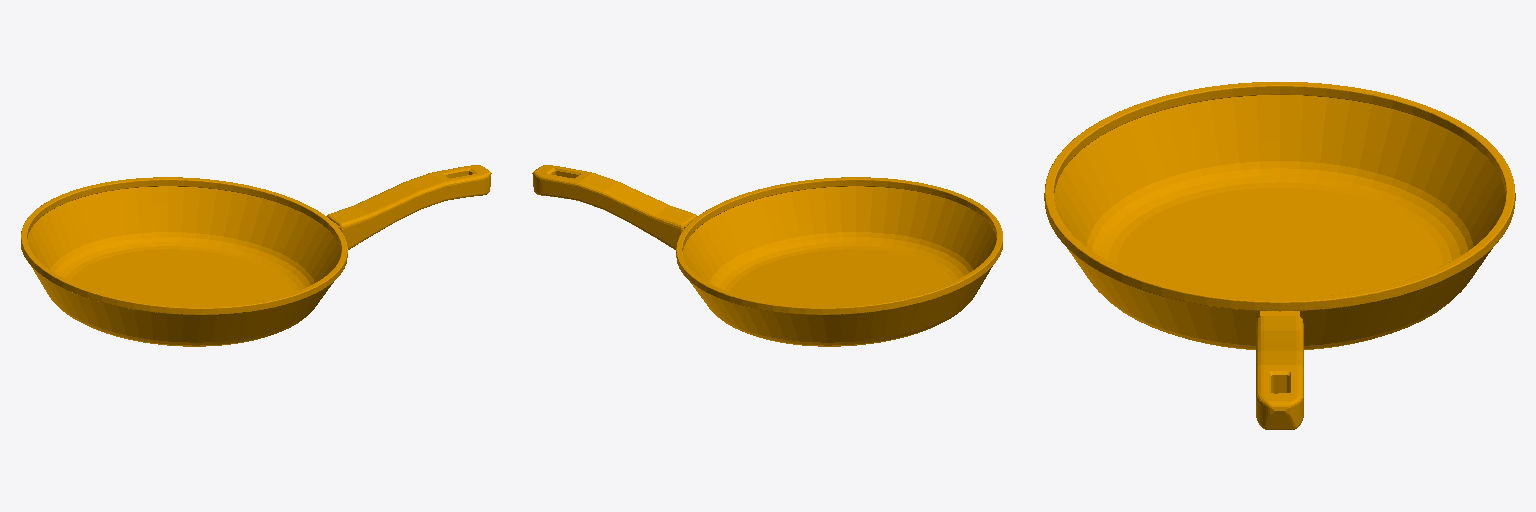
robot.urdf — object:
<?xml version="1.0"?>
<robot name="object">
  <link name="object">
    <visual>
      <origin xyz="0.0 0.0 0.0"/>
      <geometry>
        <mesh filename="pan.stl" scale="1.00 1.00 1.00"/>
      </geometry>
    </visual>
    <collision>
      <origin xyz="0.0 0.0 0.0"/>
      <geometry>
        <mesh filename="pan.stl" scale="1.00 1.00 1.00"/>
      </geometry>
    </collision>
  </link>
</robot>
    
                    

--- Facts derived from the render (not from the file) ---
The picture shows the robot from 3 angles, left to right: view 1: azimuth 30°, elevation 25°; view 2: azimuth 150°, elevation 25°; view 3: azimuth 270°, elevation 25°; orthographic projection.
Robot: object — 1 links, 0 joints (none); root link object; default pose: all joints at 0.
Links seen in each view (by area): view 1: object; view 2: object; view 3: object.
Boxes of the visible links, x1=… form: object: x1=21, y1=165, x2=491, y2=346; object: x1=532, y1=165, x2=1002, y2=346; object: x1=1044, y1=82, x2=1515, y2=429.
Bounding box of the posed robot: 0.236 × 0.15 × 0.0346 m (x, y, z).
Meshes: 1 distinct files referenced, 1 mesh visuals loaded (1 binary STL).
